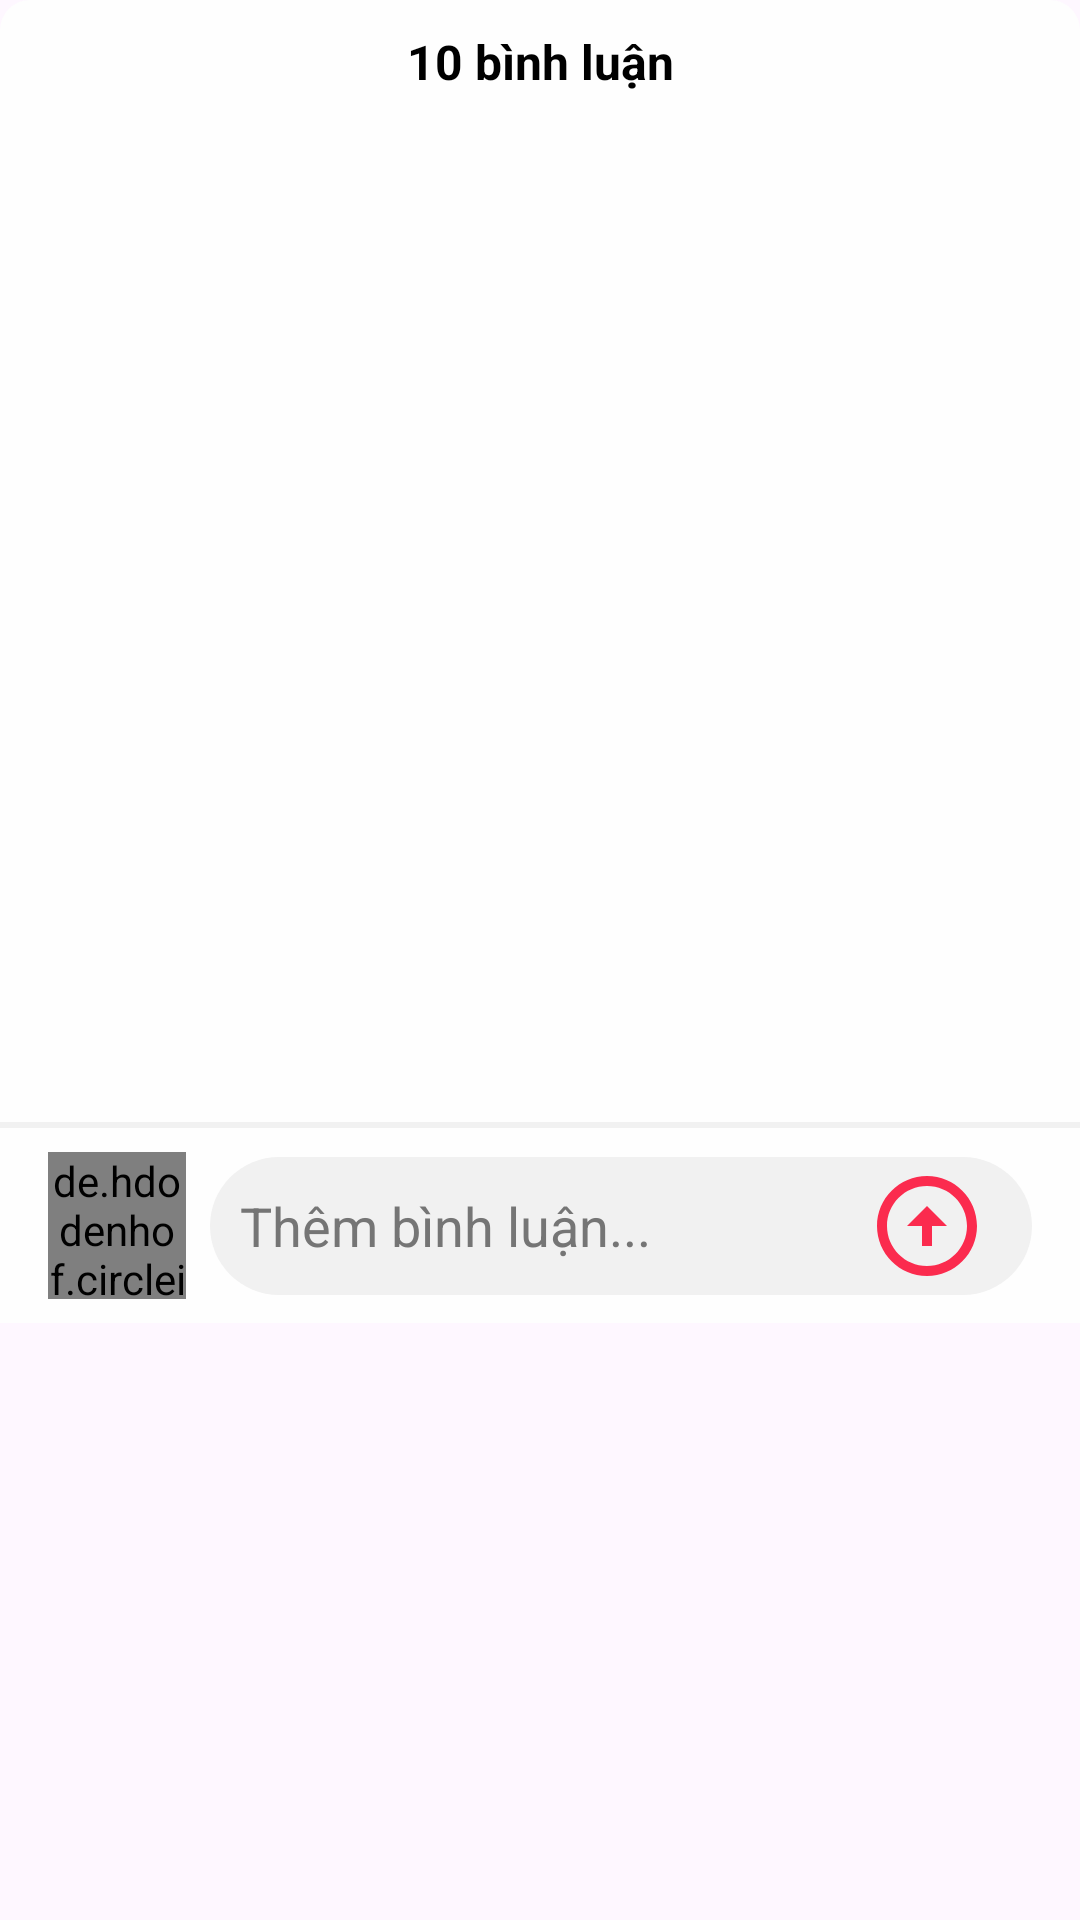

Named icons in this screenshot (1080w x 1920h) and their bounding boxes, {"left": x1, "top": y1, "right": x2, "bottom": y2}:
arrow circle up: {"left": 877, "top": 1176, "right": 977, "bottom": 1276}
